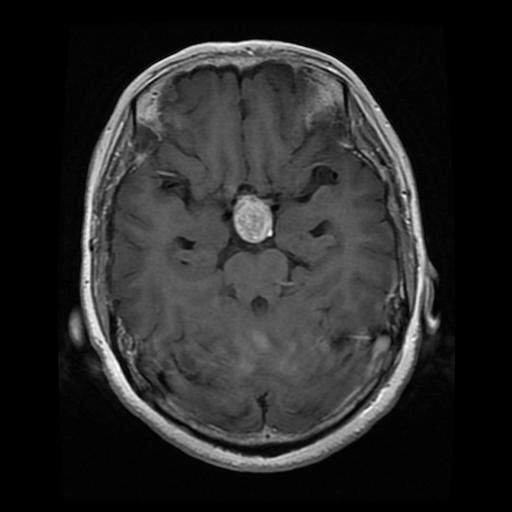Tumour-Pituitary: (228, 191, 285, 257)
